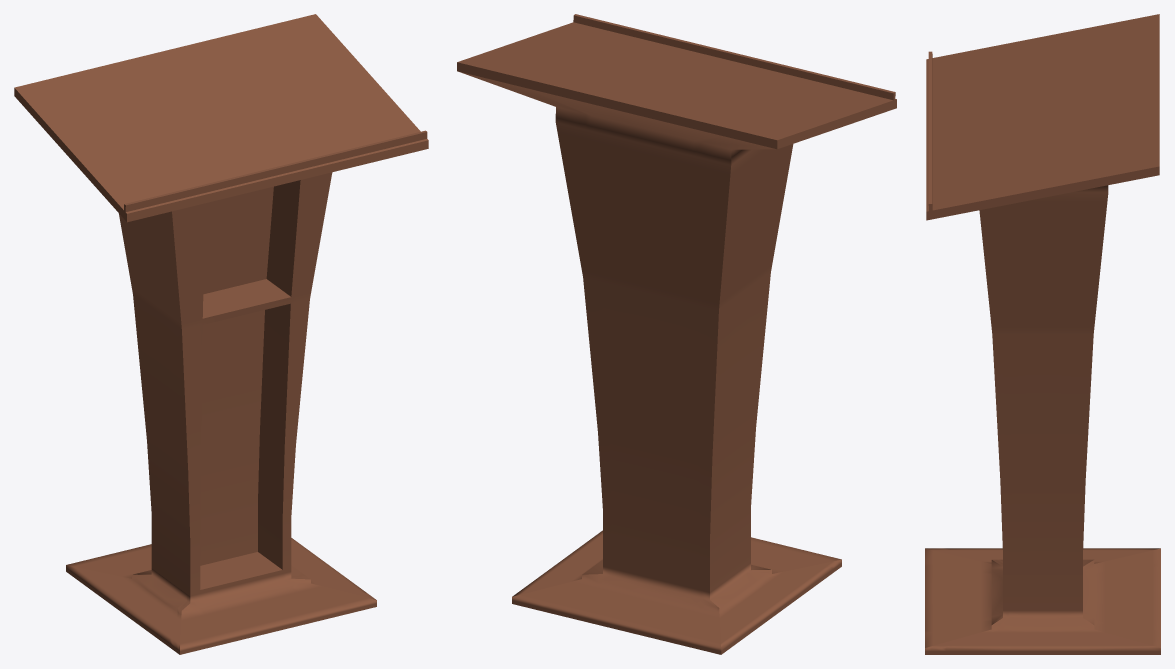
Rendered from Mesh_Lectern_01.fbx.
The picture shows the model from 3 angles, left to right: view 1: azimuth 30°, elevation 25°; view 2: azimuth 150°, elevation 25°; view 3: azimuth 270°, elevation 25°; orthographic projection. The views are drawn at different scales.
Visible parts, largest first — view 1: Lectern; view 2: Lectern; view 3: Lectern.
Part boxes in pixels (bbox=[...]): Lectern: bbox=[14, 14, 428, 654]; Lectern: bbox=[457, 14, 896, 654]; Lectern: bbox=[925, 14, 1160, 654].
Bounding box in the file's own units: 33.85 × 53.32 × 22.12.
